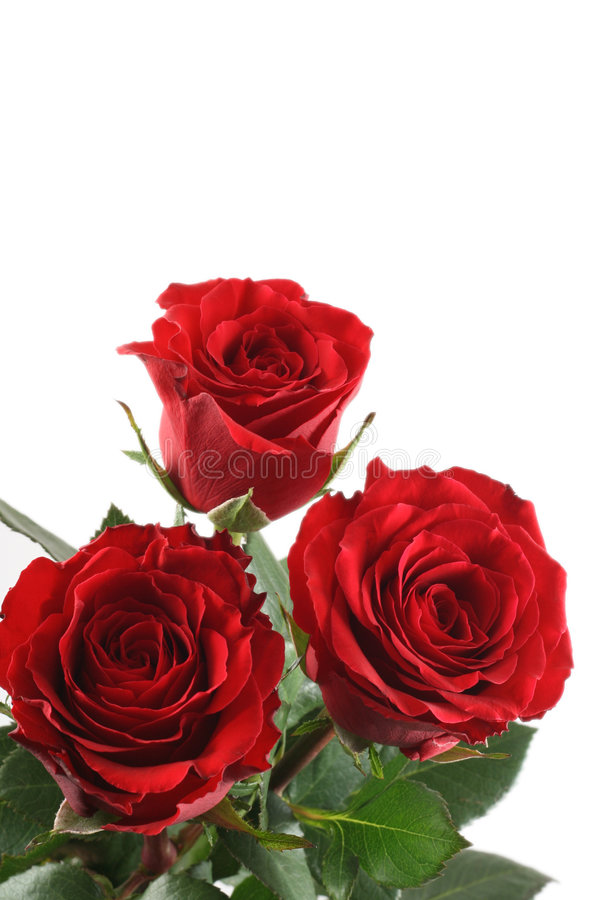RedRose: (298, 449, 582, 768), (15, 499, 297, 819), (142, 249, 371, 530)
